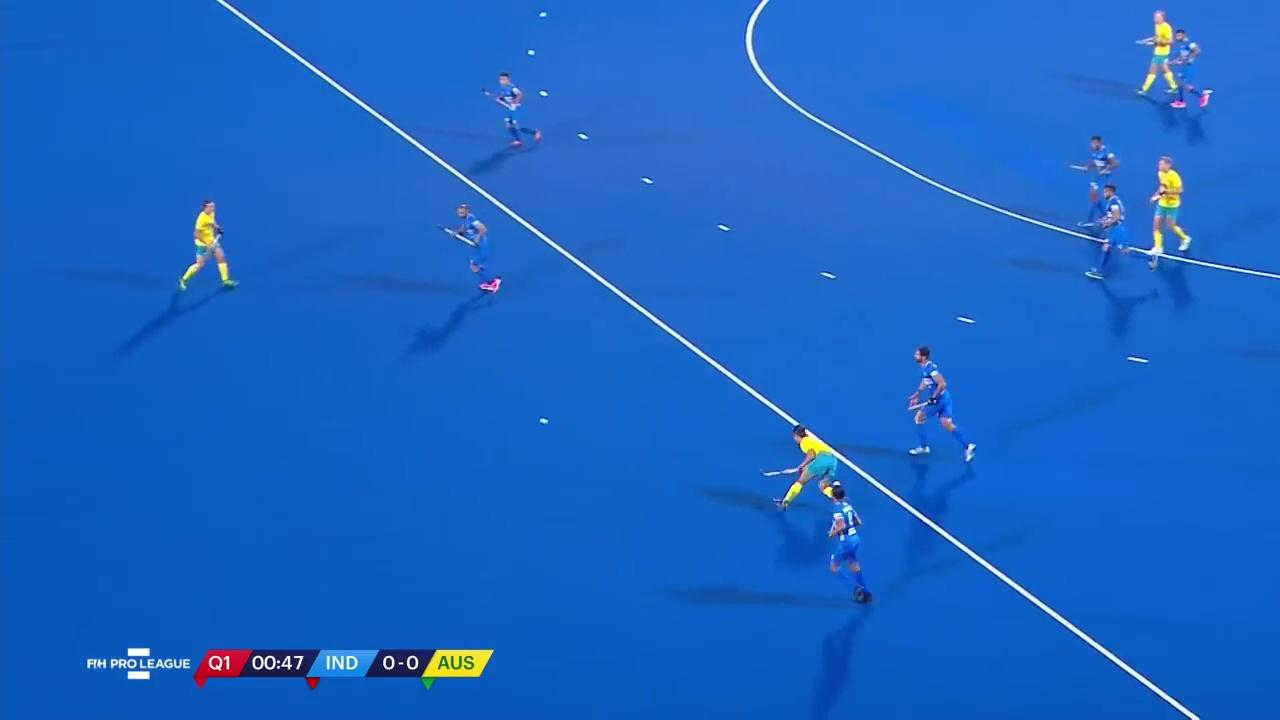ball: (529, 413, 553, 431)
